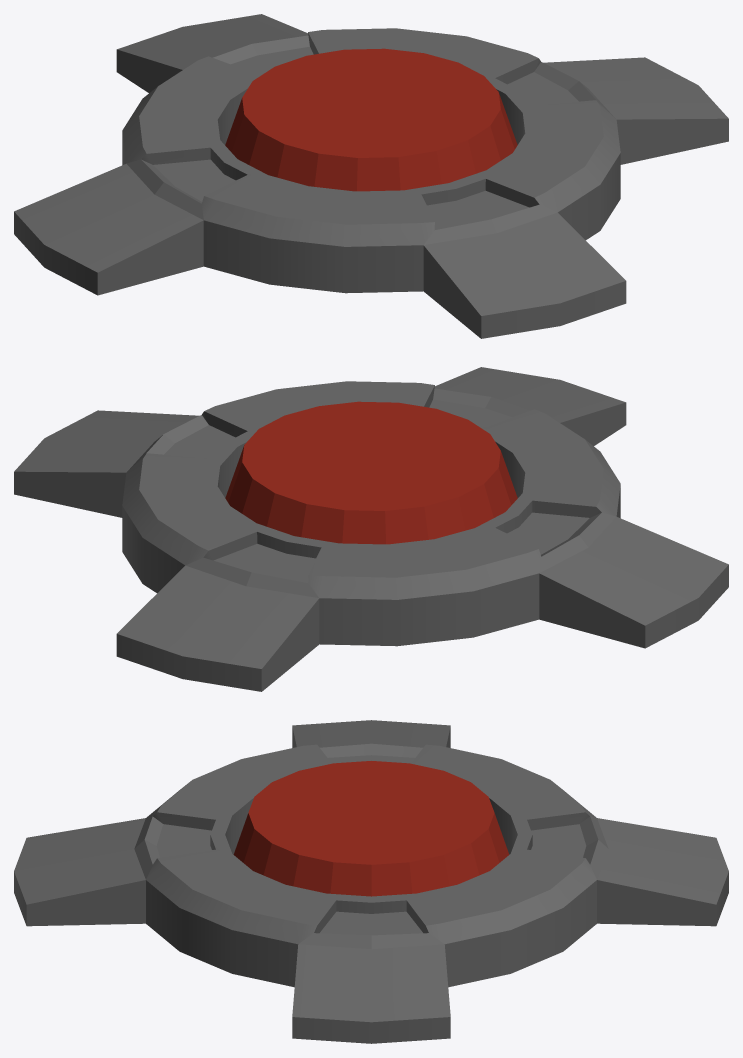
Rendered from Landmine.fbx.
The picture shows the model from 3 angles, top to bottom: view 1: azimuth 30°, elevation 25°; view 2: azimuth 150°, elevation 25°; view 3: azimuth 270°, elevation 25°; orthographic projection. The views are drawn at different scales.
Visible parts, largest first — view 1: Landmine; view 2: Landmine; view 3: Landmine.
Part boxes in pixels (x1,y1,x2,y2): Landmine: (14,14,728,338); Landmine: (14,367,728,691); Landmine: (14,720,728,1043).
Bounding box in the file's own units: 316 × 39.01 × 316.
